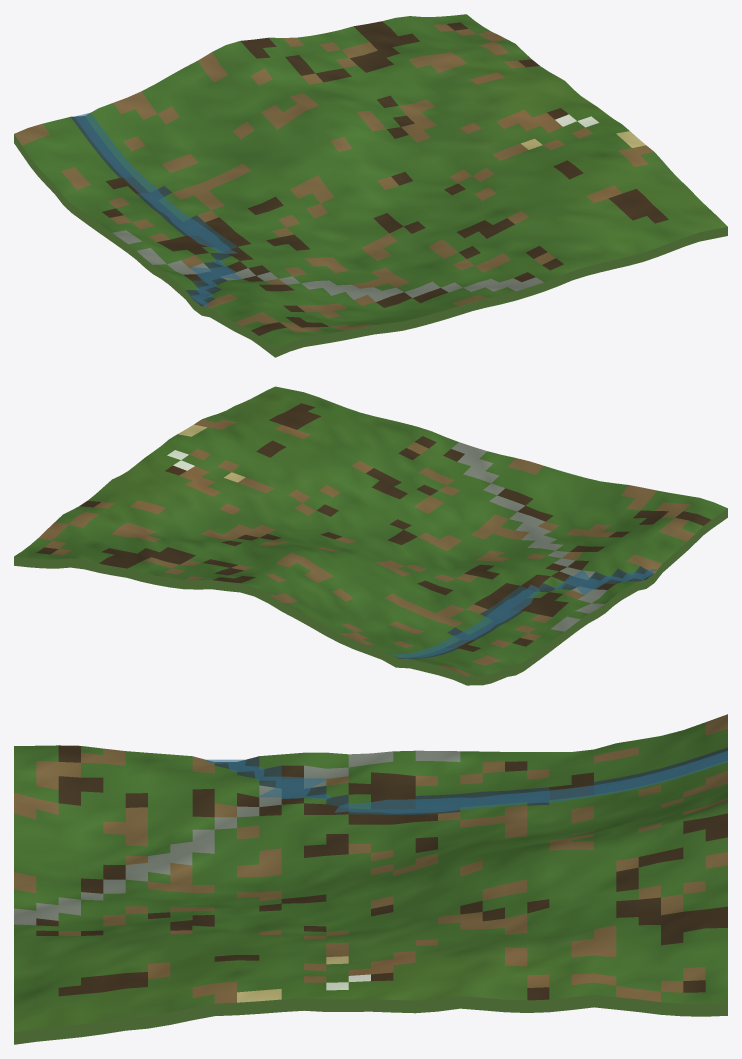
Rendered from chunk_2_3_lod1.glb.
3 renders of one model, top to bottom at view 1: azimuth 30°, elevation 25°; view 2: azimuth 150°, elevation 25°; view 3: azimuth 270°, elevation 25°, orthographic. The views are drawn at different scales.
Parts seen in each view (by area): view 1: Surface_Grass, Surface_Dirt, Surface_Mud, Skirt, Water, Surface_Water, Surface_Gravel; view 2: Surface_Grass, Surface_Dirt, Surface_Mud, Skirt, Surface_Gravel, Water, Surface_Water; view 3: Surface_Grass, Surface_Dirt, Surface_Mud, Skirt, Water, Surface_Water, Surface_Gravel, Surface_Sand.
Boxes of the visible parts, box(x1,y1,x2,y2) form: Surface_Grass: box(22, 14, 727, 348); Surface_Dirt: box(14, 24, 653, 332); Surface_Mud: box(102, 21, 668, 335); Skirt: box(14, 134, 727, 357); Water: box(74, 112, 241, 306); Surface_Water: box(71, 116, 237, 306); Surface_Gravel: box(112, 230, 543, 301); Surface_Grass: box(14, 386, 727, 676); Surface_Dirt: box(39, 419, 694, 676); Surface_Mud: box(36, 403, 711, 651); Skirt: box(14, 508, 727, 685); Surface_Gravel: box(451, 442, 606, 631); Water: box(391, 569, 657, 658); Surface_Water: box(398, 566, 653, 658); Surface_Grass: box(14, 722, 727, 1031); Surface_Dirt: box(14, 714, 727, 1003); Surface_Mud: box(36, 745, 727, 1000); Skirt: box(14, 994, 727, 1044); Water: box(206, 751, 727, 813); Surface_Water: box(214, 747, 727, 814); Surface_Gravel: box(14, 750, 460, 925); Surface_Sand: box(237, 956, 348, 1002).
Bounding box in the file's own units: 256 × 44.4 × 256.
